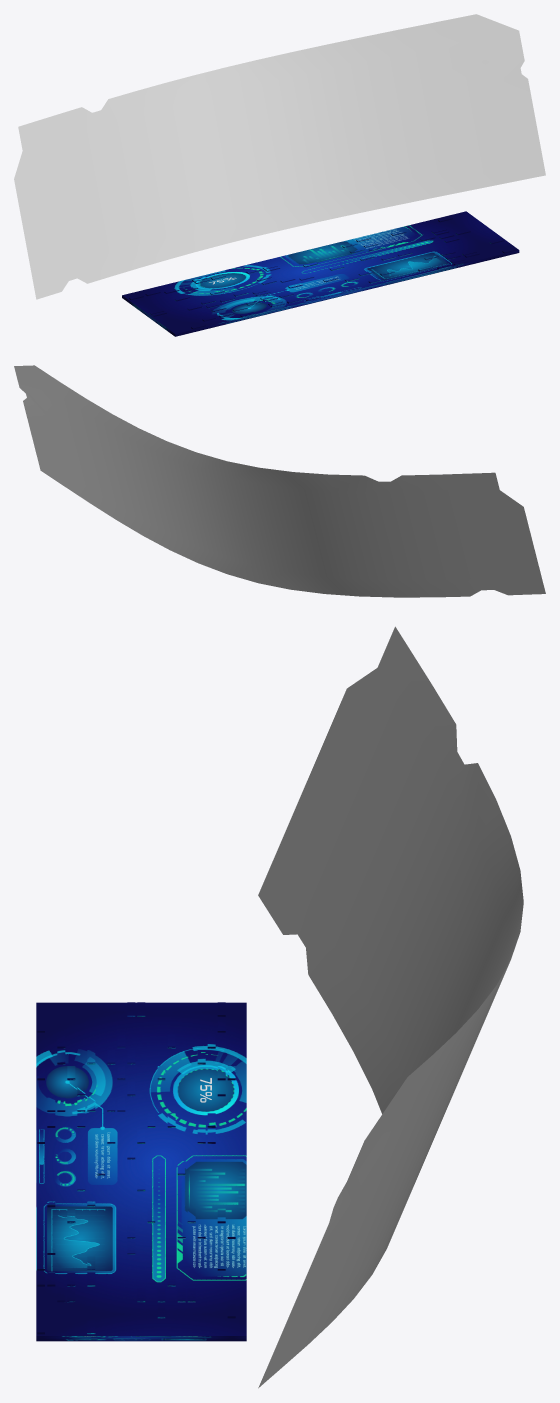
The model's file is web1.gltf.
3 renders of one model, top to bottom at view 1: azimuth 30°, elevation 25°; view 2: azimuth 150°, elevation 25°; view 3: azimuth 270°, elevation 25°, orthographic. The views are drawn at different scales.
Visible parts, largest first — view 1: Cube.001, Cube; view 2: Cube.001; view 3: Cube.001, Cube.
Boxes of the visible parts, x1=… form: Cube.001: x1=14, y1=14, x2=545, y2=299; Cube: x1=122, y1=211, x2=519, y2=336; Cube.001: x1=14, y1=365, x2=545, y2=597; Cube.001: x1=258, y1=626, x2=523, y2=1388; Cube: x1=36, y1=1002, x2=246, y2=1341.
Size of the model in its own units: 6.81 by 2.16 by 2.85.
2 materials, 1 textured.
